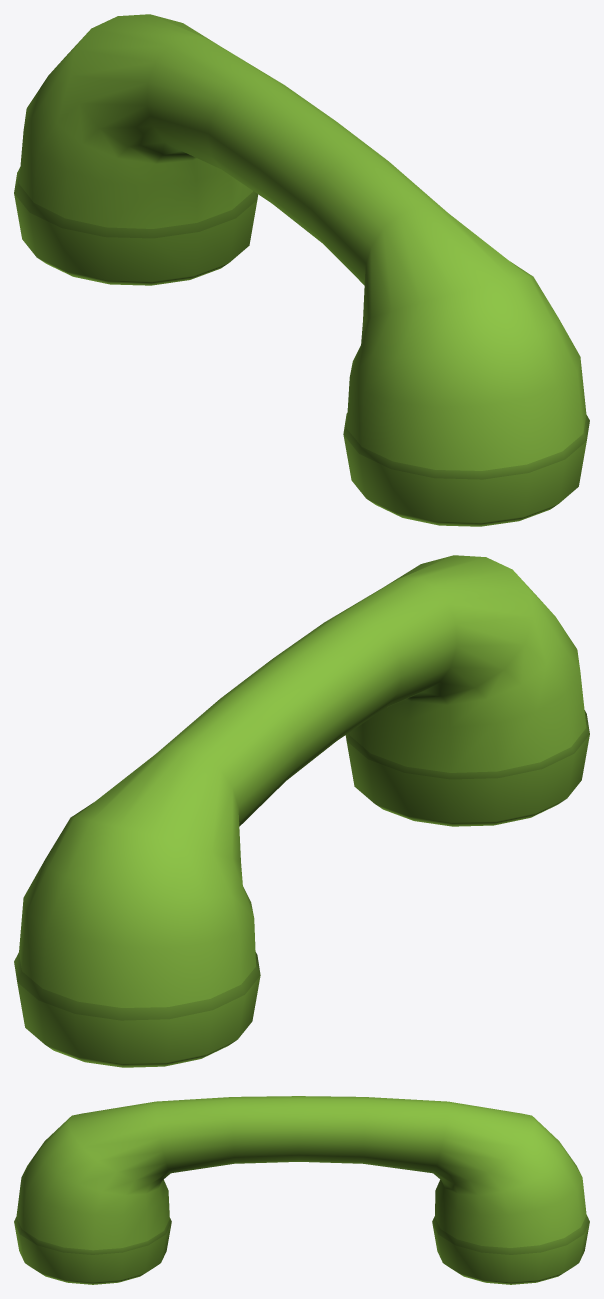
The model's file is human-electronics-telephone-handset_v5.glb.
3 views of the same model, one above another, from view 1: azimuth 30°, elevation 25°; view 2: azimuth 150°, elevation 25°; view 3: azimuth 270°, elevation 25° (orthographic). The views are drawn at different scales.
Visible parts, largest first — view 1: Telephone Handset_v5; view 2: Telephone Handset_v5; view 3: Telephone Handset_v5.
Boxes of the visible parts, x1,y1,x2,y2 form: Telephone Handset_v5: (14,14,589,526); Telephone Handset_v5: (14,555,589,1067); Telephone Handset_v5: (14,1096,589,1284).
Size of the model in its own units: 0.0603 by 0.067 by 0.22.
